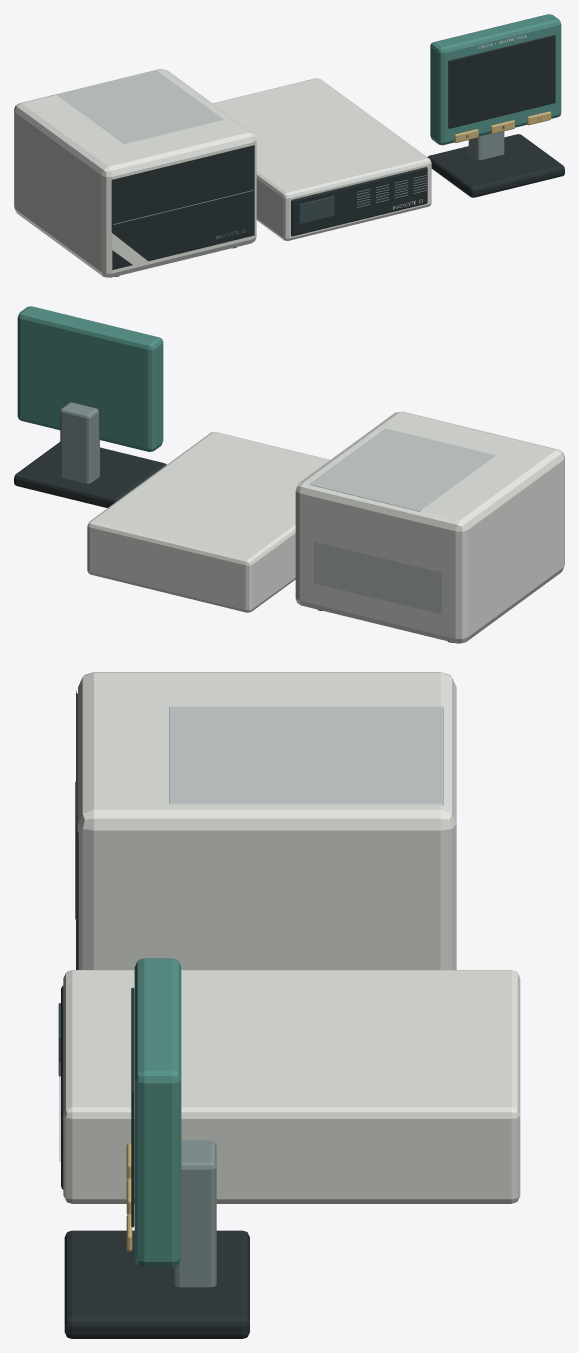
The model's file is incucyte-s3.glb.
3 renders of one model, top to bottom at view 1: azimuth 30°, elevation 25°; view 2: azimuth 150°, elevation 25°; view 3: azimuth 270°, elevation 25°, orthographic. The views are drawn at different scales.
Parts seen in each view (by area): view 1: MICROSCOPE_DATUM, CONTROLLER_DATUM, CLOSED_FASCIA_POLYGON, INK_GAUGE_SCREEN, MICROSCOPE_TOP_TRIM, READER_SHELL, READER_FOOT, CONTROLLER_DARK_BEZEL, READER_SUPPORT, CTRL_BLANK_SCREEN; view 2: MICROSCOPE_DATUM, CONTROLLER_DATUM, READER_SHELL, MICROSCOPE_TOP_TRIM, ABSTRACT_MICROSCOPE_REAR, READER_FOOT, READER_SUPPORT; view 3: CONTROLLER_DATUM, MICROSCOPE_DATUM, MICROSCOPE_TOP_TRIM, READER_FOOT, READER_SHELL, READER_SUPPORT, INK_GAUGE_SCREEN.
Boxes of the visible parts, x1,y1,x2,y2 form: MICROSCOPE_DATUM: (14,69,256,277); CONTROLLER_DATUM: (213,78,431,240); CLOSED_FASCIA_POLYGON: (111,145,254,261); INK_GAUGE_SCREEN: (448,35,555,128); MICROSCOPE_TOP_TRIM: (56,70,223,144); READER_SHELL: (430,14,561,145); READER_FOOT: (427,134,564,197); CONTROLLER_DARK_BEZEL: (291,167,427,236); READER_SUPPORT: (468,131,504,160); CTRL_BLANK_SCREEN: (299,196,334,224); MICROSCOPE_DATUM: (295,411,564,643); CONTROLLER_DATUM: (87,432,329,612); READER_SHELL: (17,306,163,451); MICROSCOPE_TOP_TRIM: (309,428,496,511); ABSTRACT_MICROSCOPE_REAR: (313,541,441,614); READER_FOOT: (14,442,166,507); READER_SUPPORT: (60,402,99,483); CONTROLLER_DATUM: (63,970,520,1203); MICROSCOPE_DATUM: (78,672,456,969); MICROSCOPE_TOP_TRIM: (169,706,443,805); READER_FOOT: (64,1230,249,1338); READER_SHELL: (134,958,181,1266); READER_SUPPORT: (174,1140,216,1287); INK_GAUGE_SCREEN: (131,987,134,1227).
Size of the model in its own units: 1.38 by 0.3915 by 0.583.
